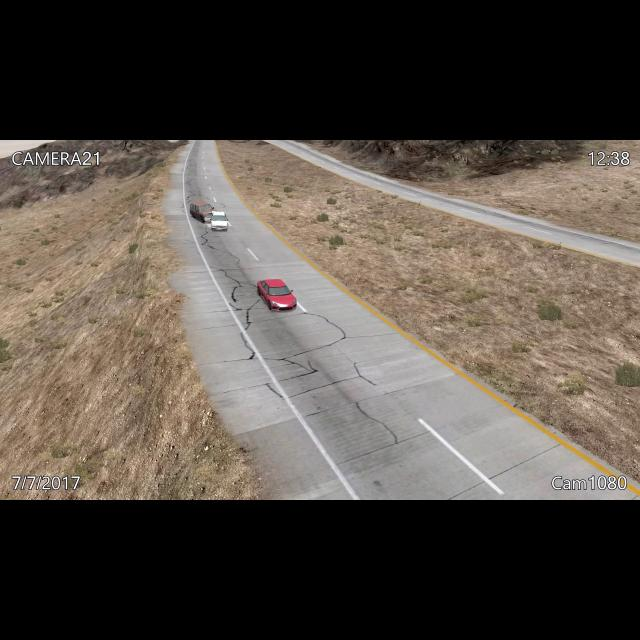accident: (188, 198, 232, 236)
